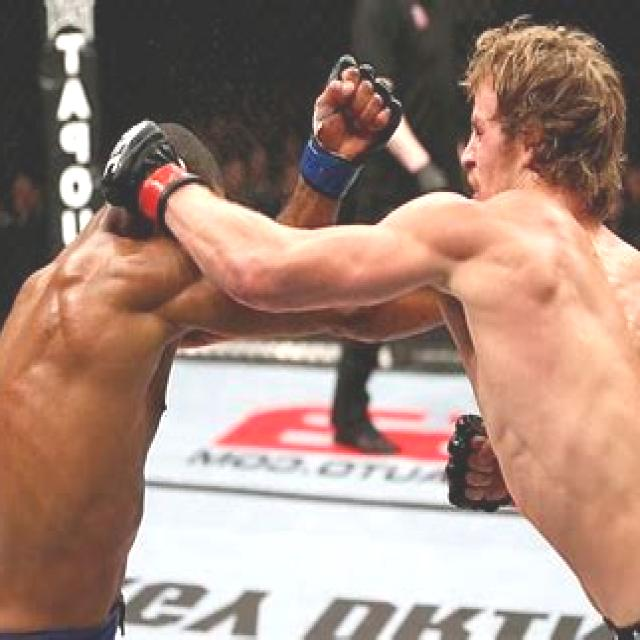fight: (26, 21, 623, 500)
